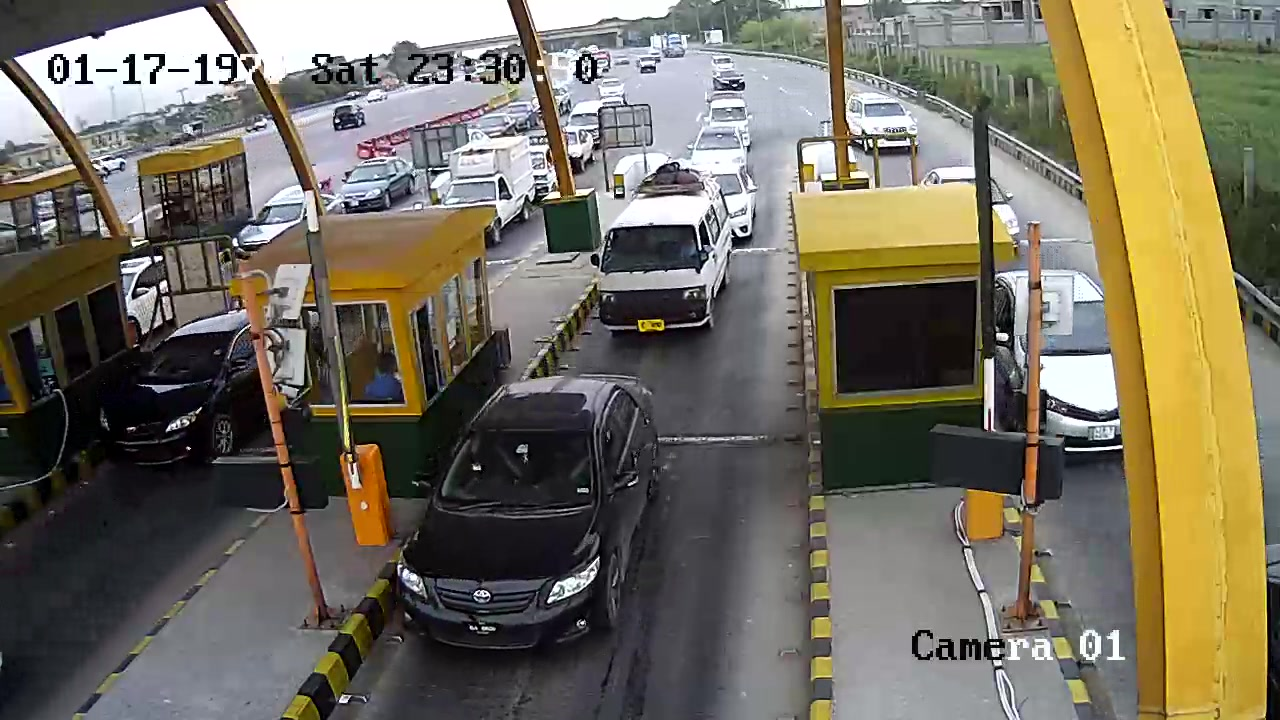F3: (594, 154, 738, 344)
